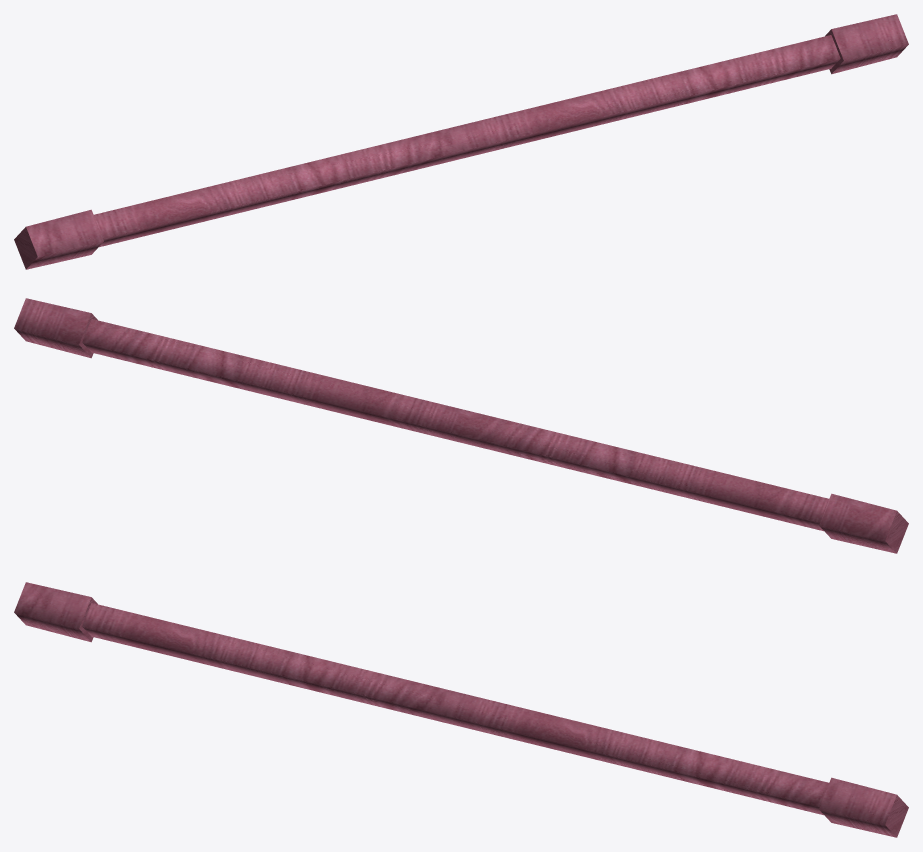
Rendered from Red stick.FBX.
3 views of the same model, one above another, from view 1: azimuth 30°, elevation 25°; view 2: azimuth 150°, elevation 25°; view 3: azimuth 330°, elevation 25° (orthographic).
Parts seen in each view (by area): view 1: Cylinder002; view 2: Cylinder002; view 3: Cylinder002.
Part boxes in pixels (x1,y1,x2,y2): Cylinder002: (14, 14, 908, 269); Cylinder002: (14, 298, 908, 553); Cylinder002: (14, 582, 908, 837).
Bounding box in the file's own units: 92.86 × 4.61 × 4.61.
1 material, 1 textured.
